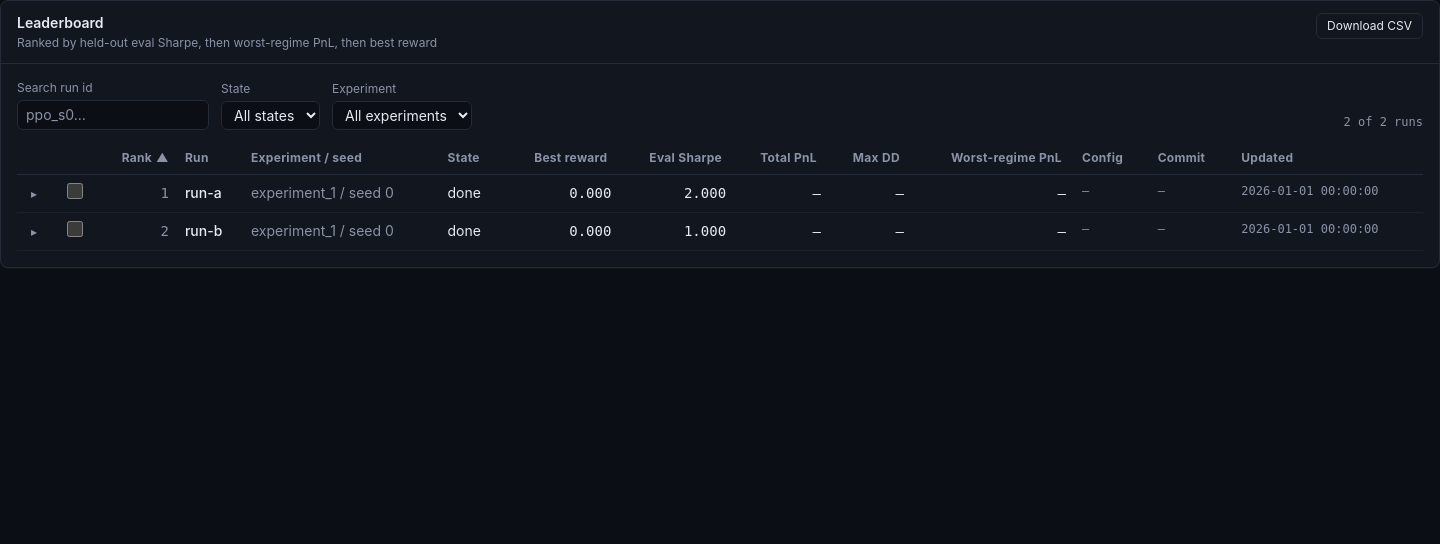
Test: Leaderboard view › loads runs, exports the visible ranking and lazily fetches a curve
The width and height of the screenshot is (1440, 544).
expect the text "run-a" is shown: met, box x1=185 y1=184 x2=222 y2=201
expect the button "Download CSV" is shown: met, box x1=1316 y1=13 x2=1423 y2=39
Step 1. Click the button named "Expand run-a" → {"x": 34, "y": 194}, box x1=25 y1=184 x2=43 y2=204
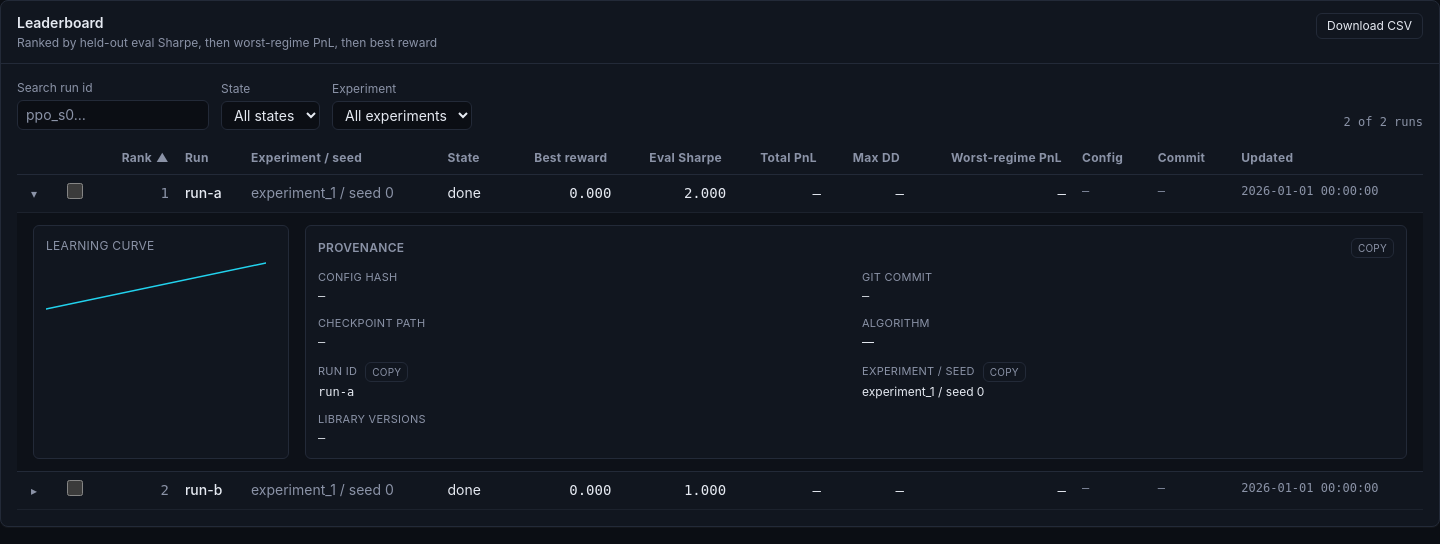
expect the element with test id "provenance-card" is shown: met, box x1=305 y1=225 x2=1407 y2=459
